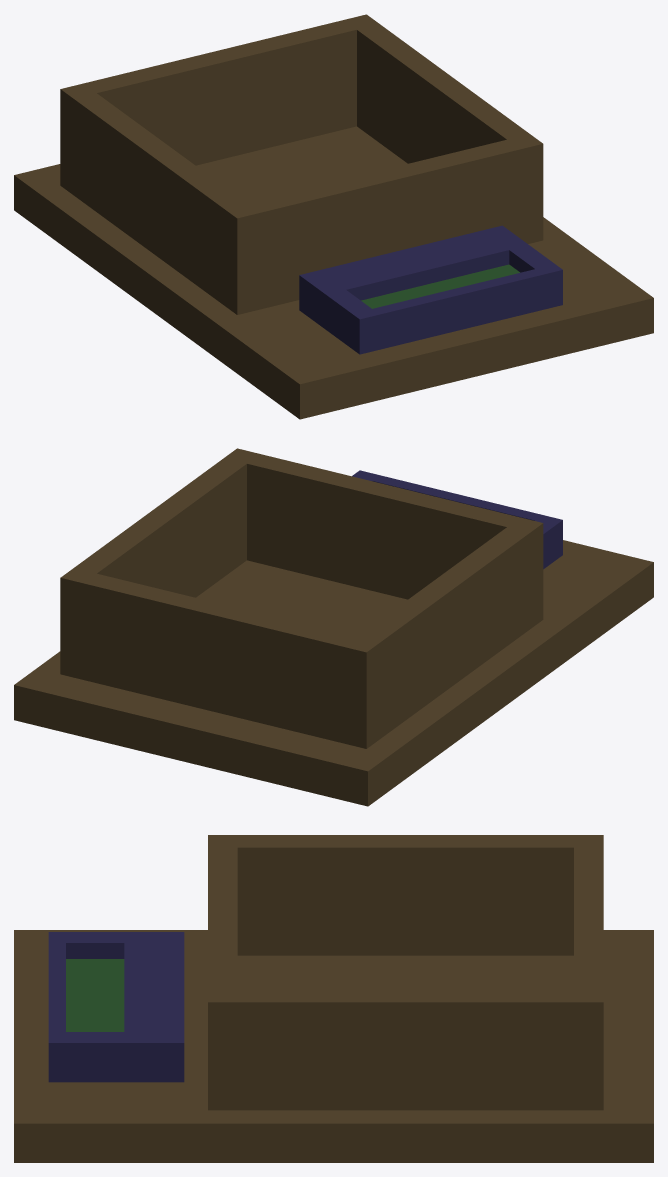
File: staticMesh_prop_basebutton.fbx
3 views of the same model, one above another, from view 1: azimuth 30°, elevation 25°; view 2: azimuth 150°, elevation 25°; view 3: azimuth 270°, elevation 25° (orthographic). The views are drawn at different scales.
Visible parts, largest first — view 1: pCube12; view 2: pCube12; view 3: pCube12.
Part boxes in pixels (x1=…): pCube12: x1=14, y1=14, x2=653, y2=419; pCube12: x1=14, y1=448, x2=653, y2=806; pCube12: x1=14, y1=835, x2=653, y2=1162.
Bounding box in the file's own units: 74.98 × 26.67 × 105.
